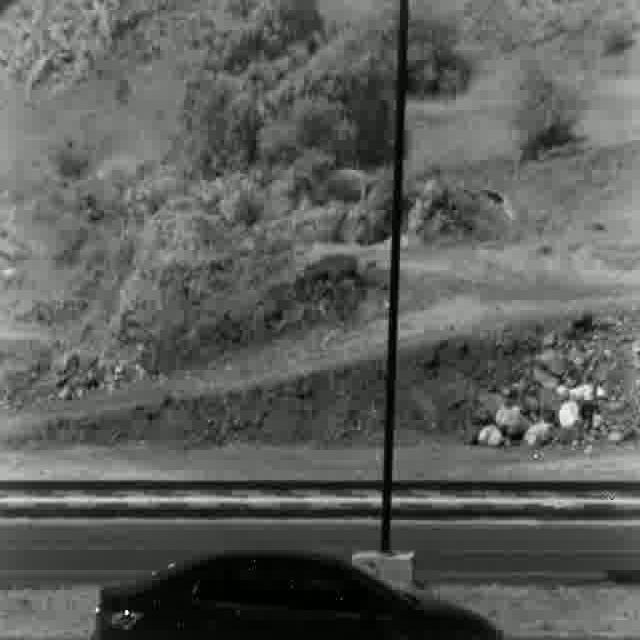Car: (93, 549, 500, 640)
